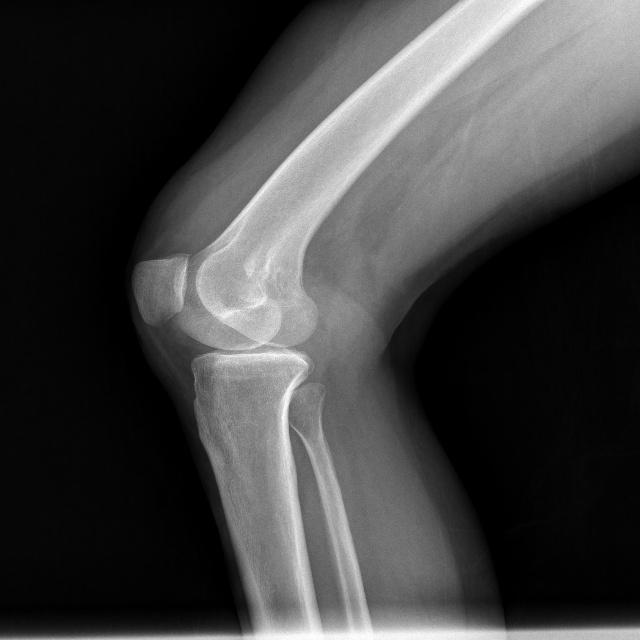Knee: (128, 240, 320, 417)
